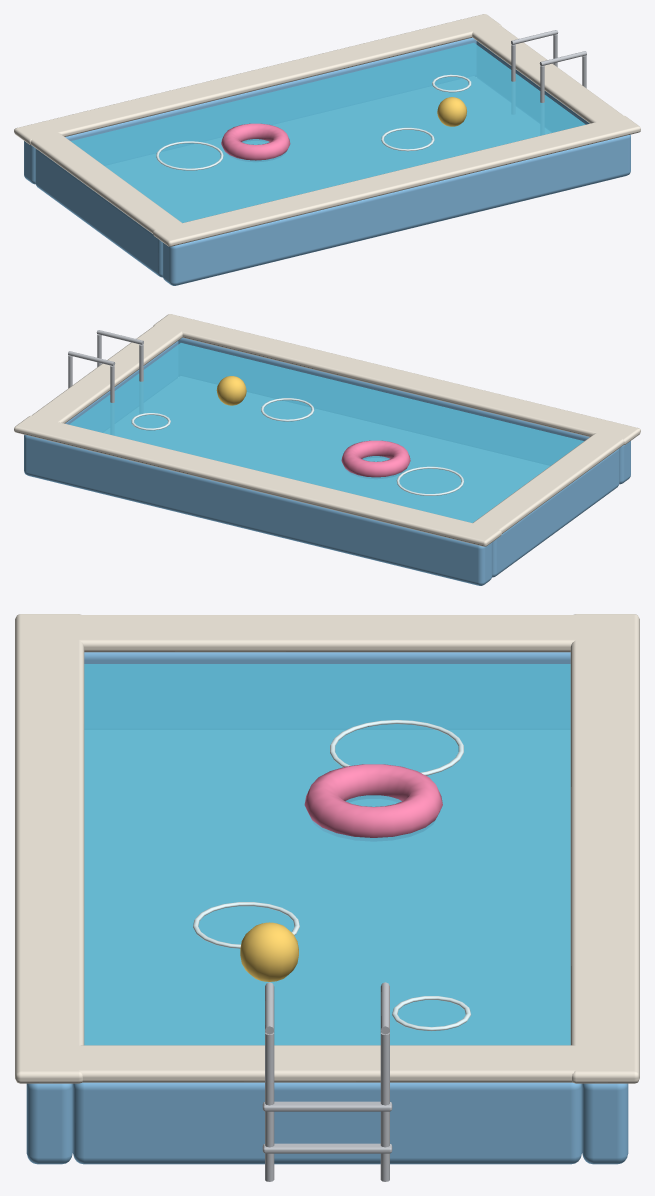
The model's file is pool.glb.
3 views of the same model, one above another, from view 1: azimuth 30°, elevation 25°; view 2: azimuth 150°, elevation 25°; view 3: azimuth 270°, elevation 25° (orthographic). The views are drawn at different scales.
Bounding box in the file's own units: 4.81 × 0.74 × 2.7.
